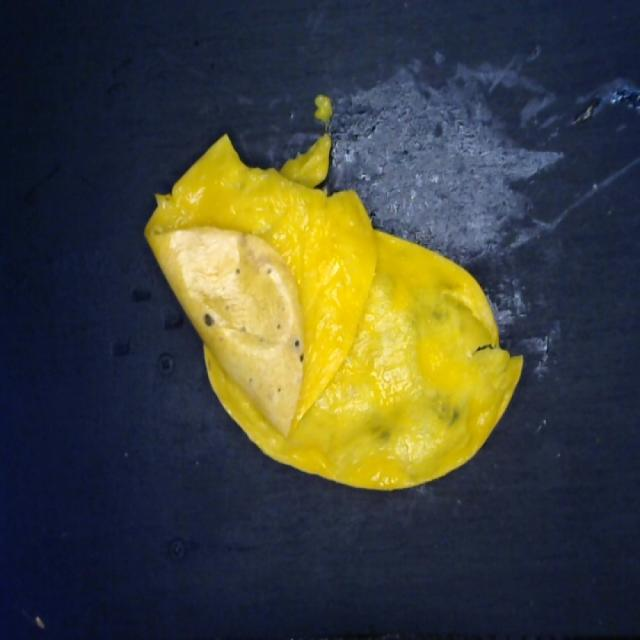biodegradable: (139, 122, 525, 496)
